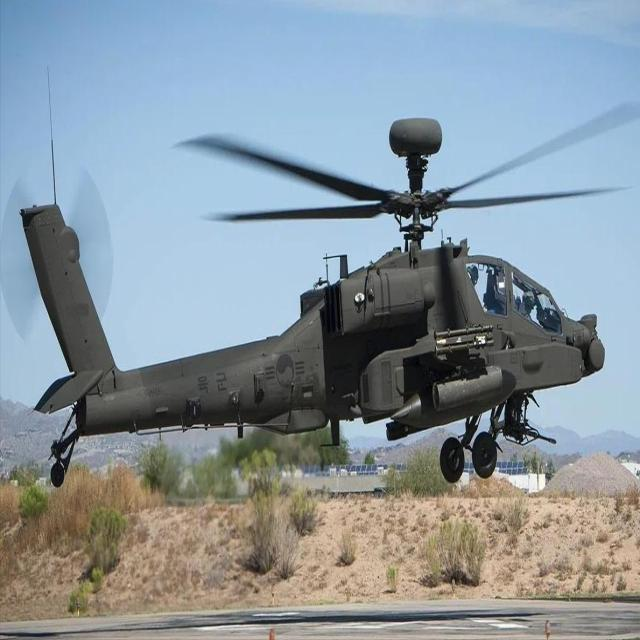MIL_HELO: (0, 79, 625, 538)
